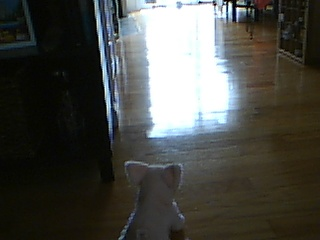piggy: (117, 159, 187, 240)
